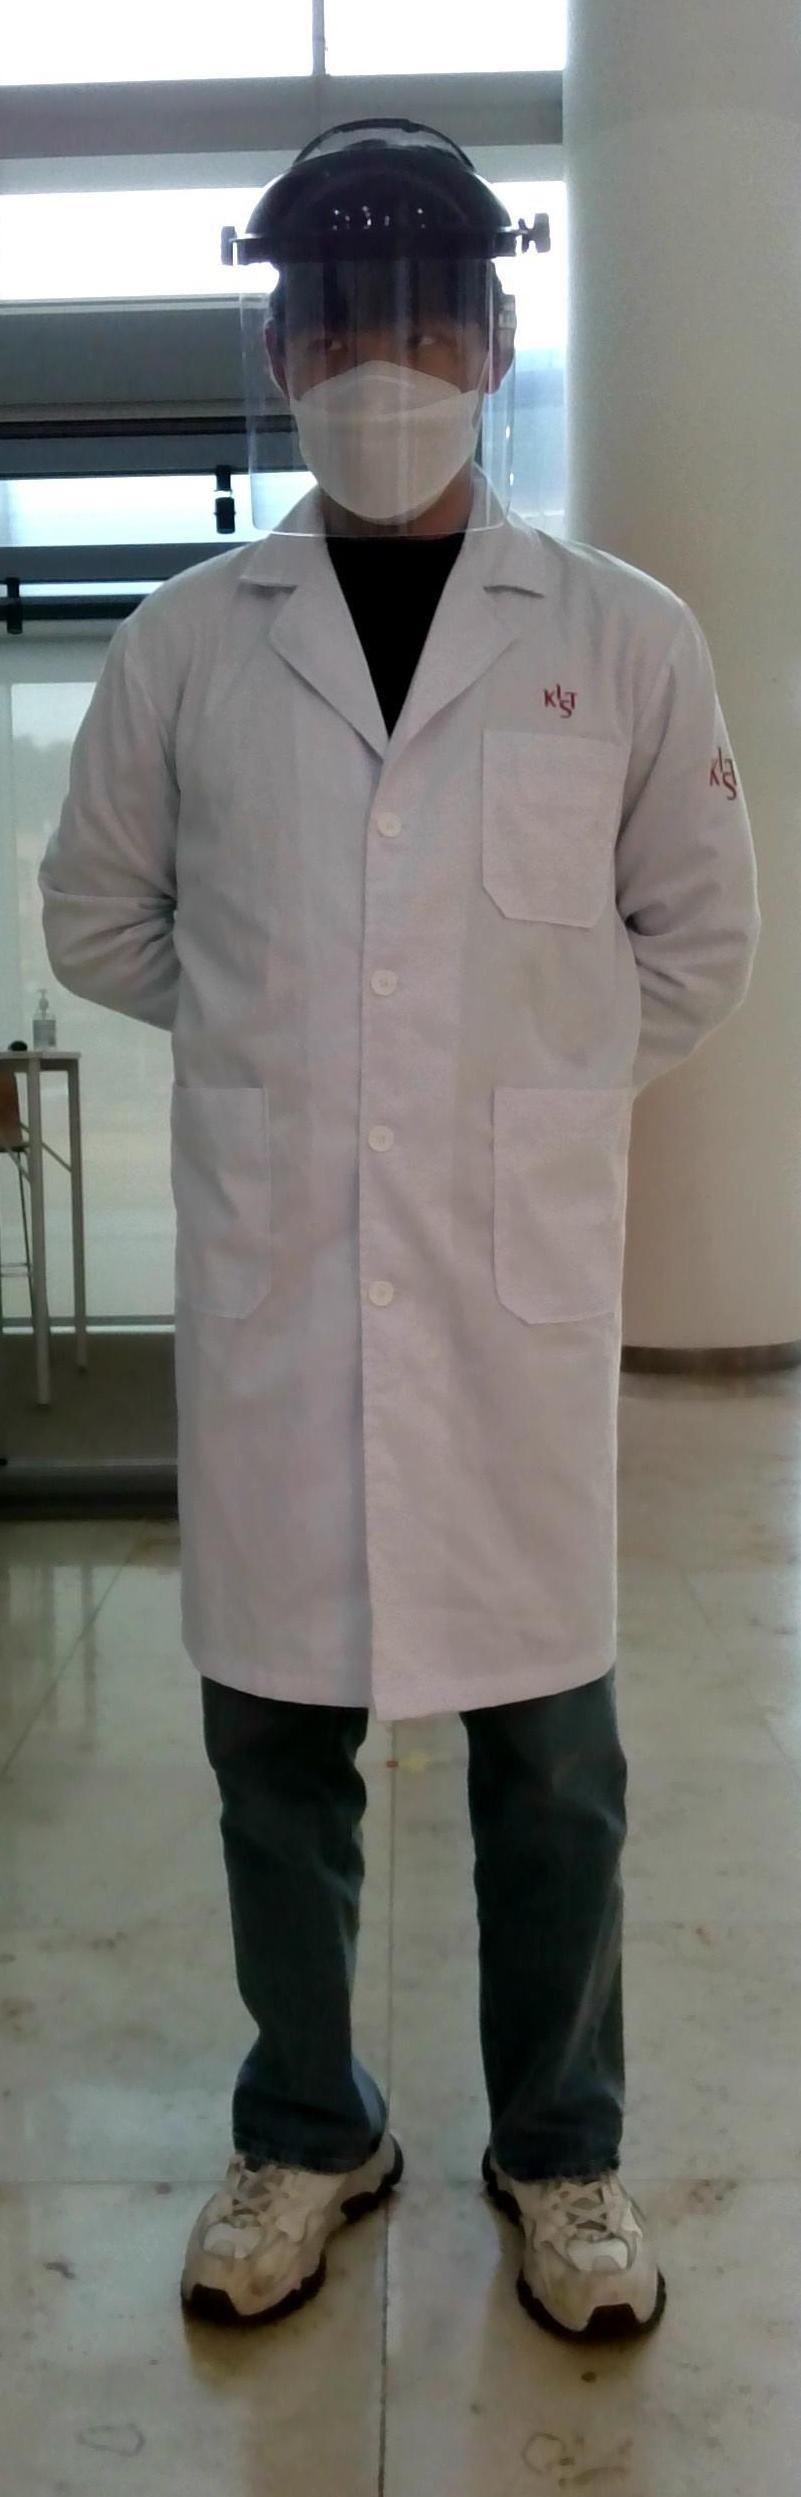lab_coat: (25, 511, 744, 1707)
